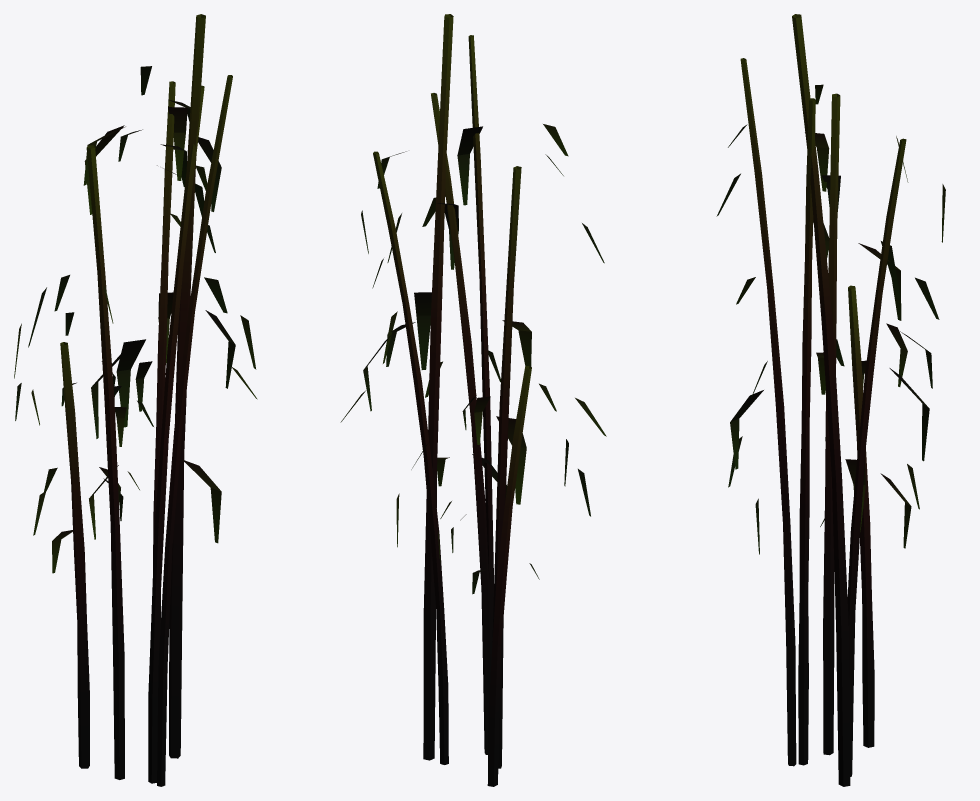
The model's file is bamboo_a.glb.
3 views of the same model, side by side, from view 1: azimuth 30°, elevation 25°; view 2: azimuth 150°, elevation 25°; view 3: azimuth 270°, elevation 25° (orthographic). The views are drawn at different scales.
Parts seen in each view (by area): view 1: bamboo_a; view 2: bamboo_a; view 3: bamboo_a.
Part boxes in pixels (x1=…): bamboo_a: x1=14, y1=14, x2=257, y2=786; bamboo_a: x1=340, y1=14, x2=606, y2=786; bamboo_a: x1=716, y1=14, x2=945, y2=786.
Bounding box in the file's own units: 1.67 × 4.87 × 1.89.
Materials: 1 (1 with a texture image).
